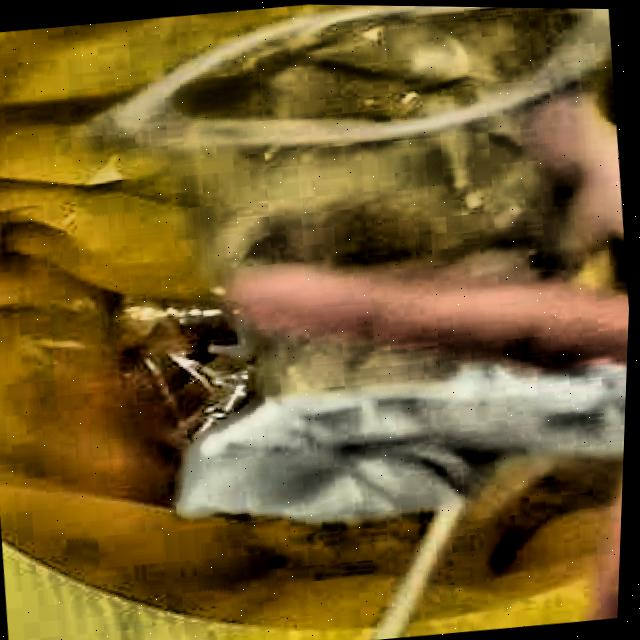plastic: (86, 4, 611, 288), (260, 339, 450, 393)
